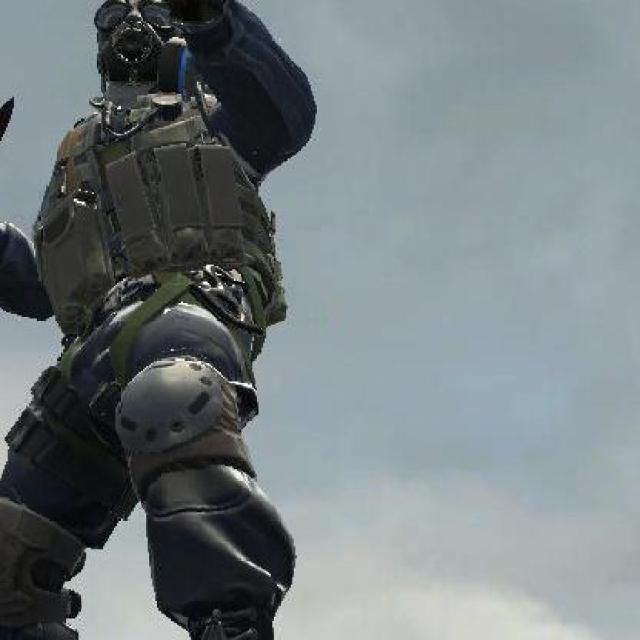CT: (0, 0, 318, 638)
CT_HEAD: (95, 0, 194, 114)
